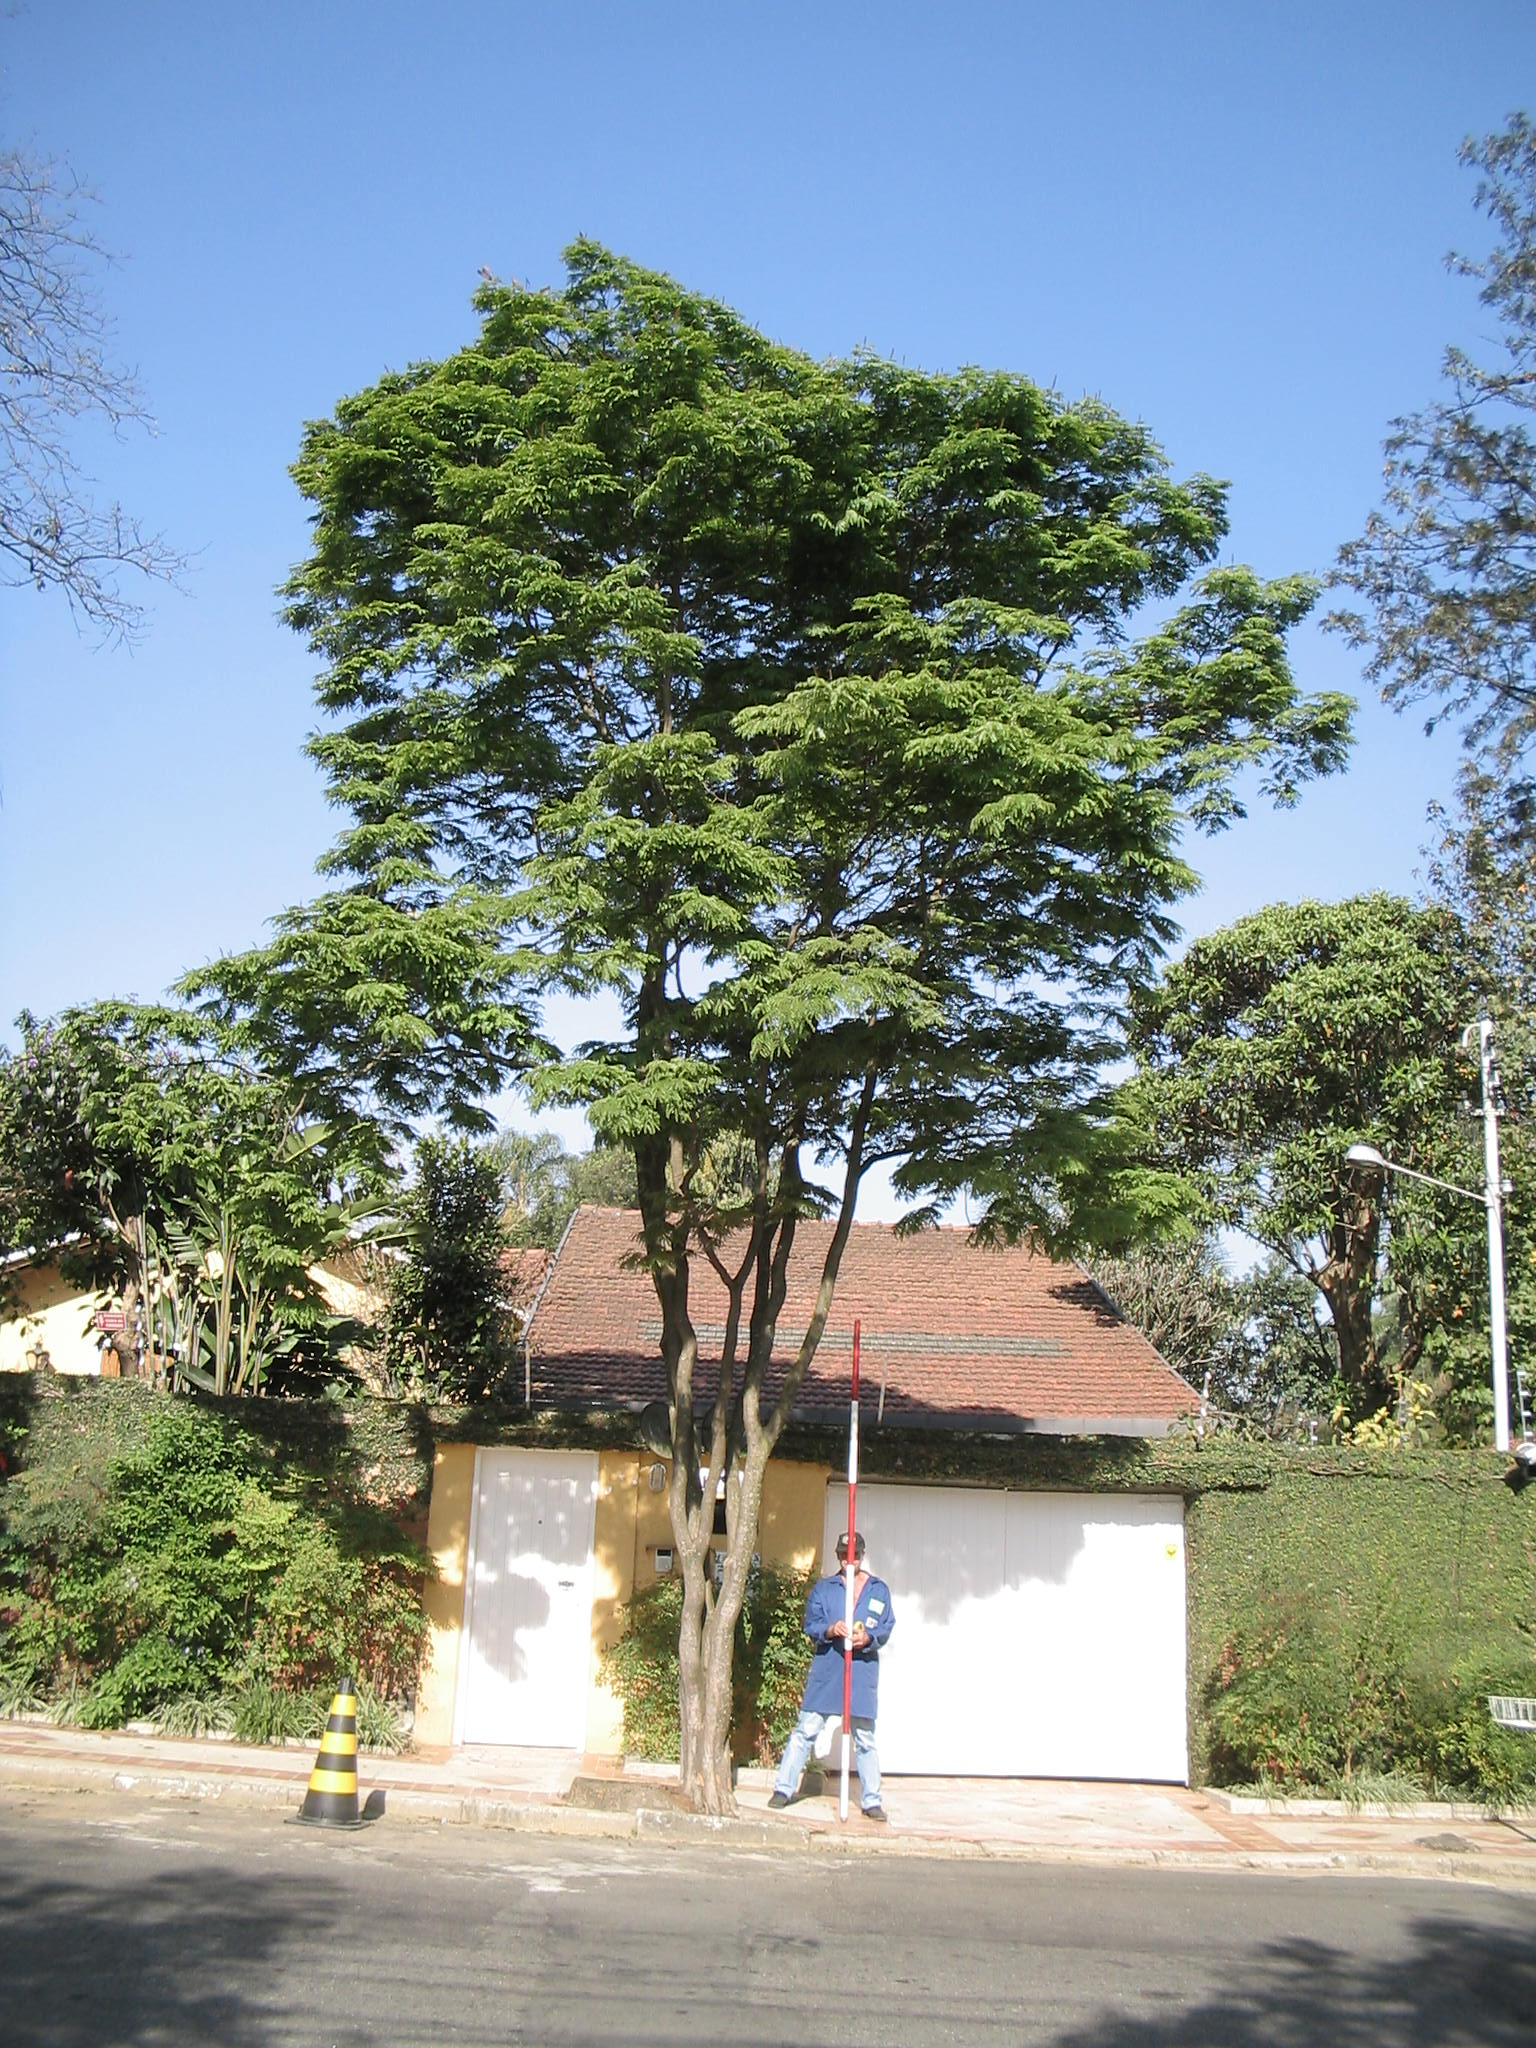crown: (274, 245, 1354, 1300)
stem: (629, 1611, 791, 1816)
stick: (816, 1321, 904, 1813)
tree: (265, 237, 1350, 1813)
